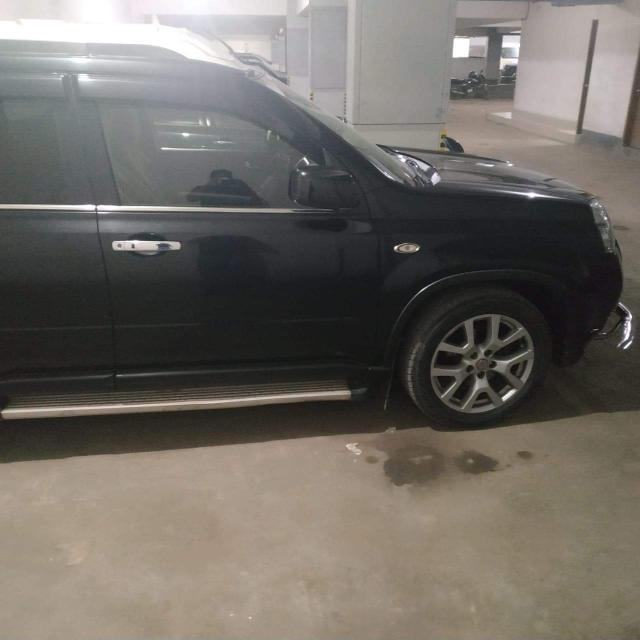black: (0, 41, 634, 425)
